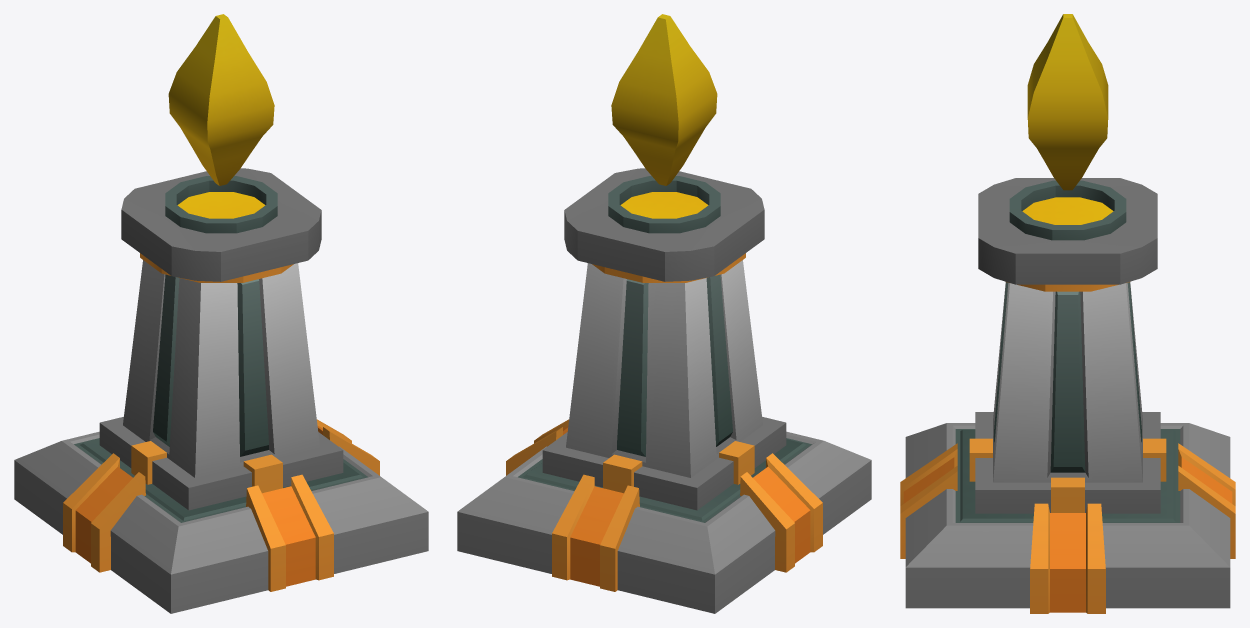
Rendered from 1_hell_0.glb.
The picture shows the model from 3 angles, left to right: view 1: azimuth 30°, elevation 25°; view 2: azimuth 150°, elevation 25°; view 3: azimuth 270°, elevation 25°; orthographic projection. The views are drawn at different scales.
Visible parts, largest first — view 1: Cube; view 2: Cube; view 3: Cube.
Part boxes in pixels (left/top/right/bottom): Cube: left=14, top=14, right=428, bottom=613; Cube: left=457, top=14, right=871, bottom=613; Cube: left=900, top=14, right=1235, bottom=613.
Size of the model in its own units: 1.07 by 1.85 by 1.07.
1 material, 1 textured.
